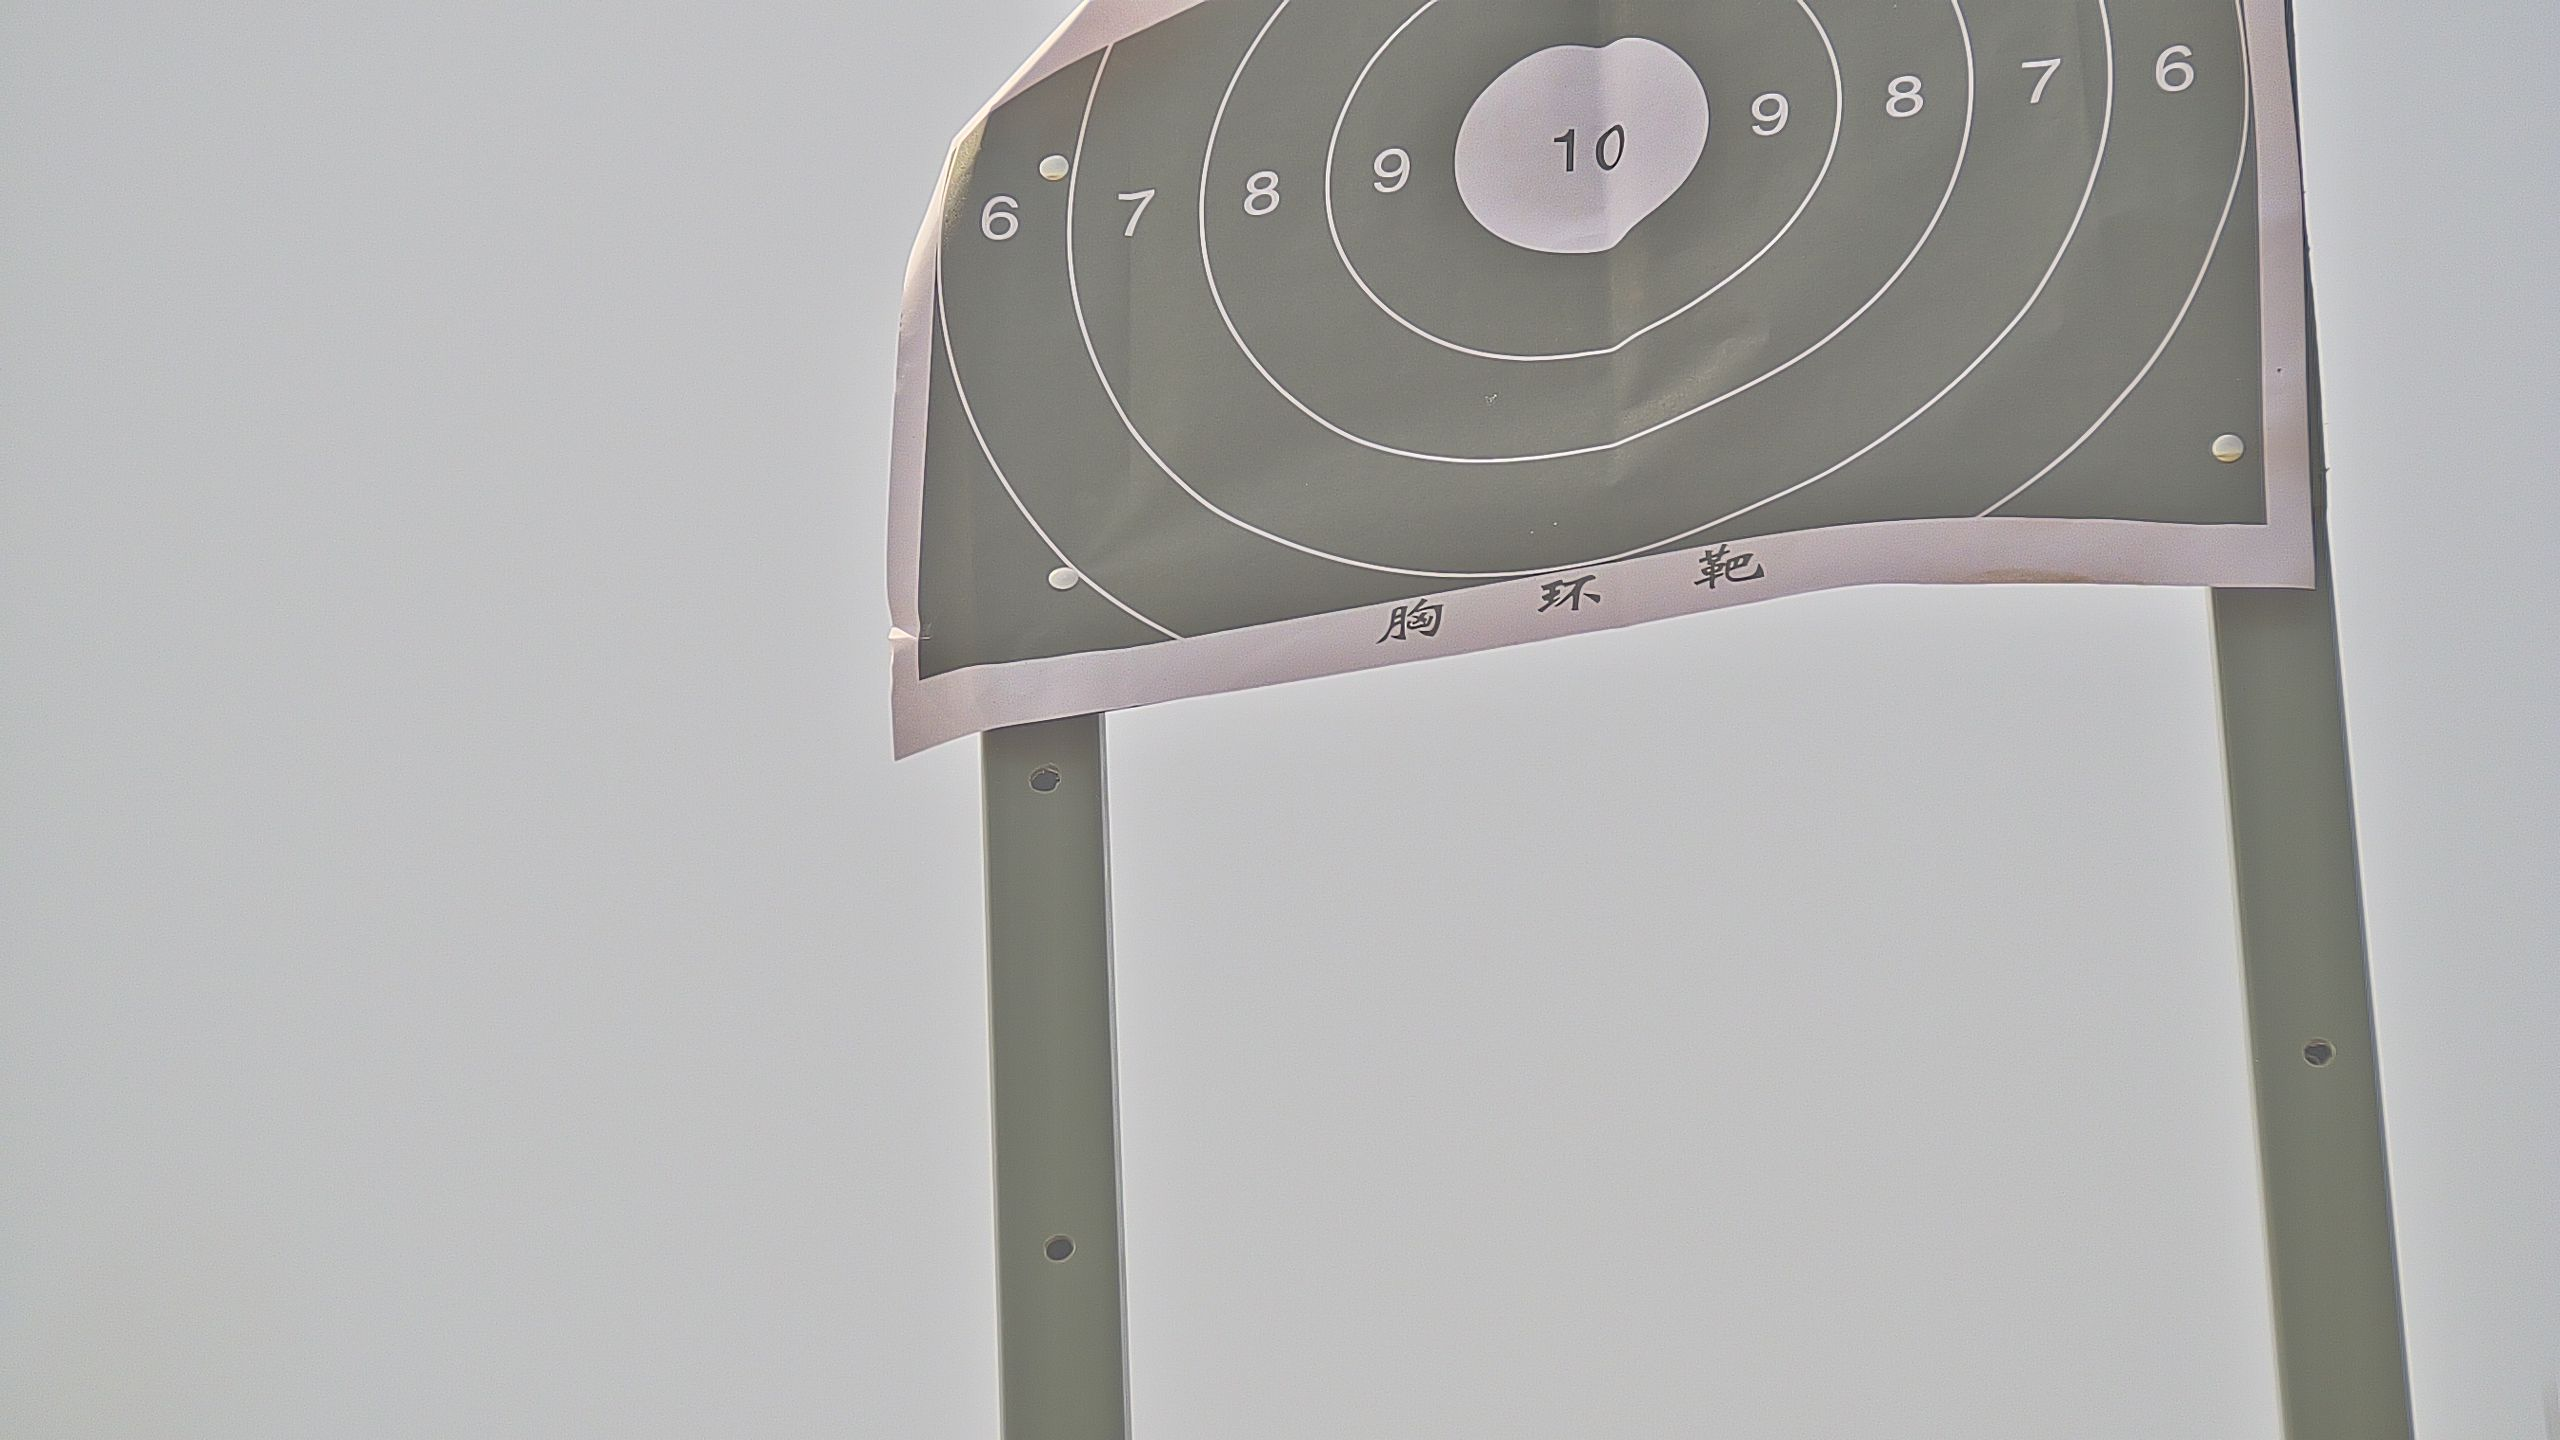kernel: (1586, 146, 1588, 151)
target: (914, 7, 2280, 680)
ten: (1447, 40, 1714, 255)
